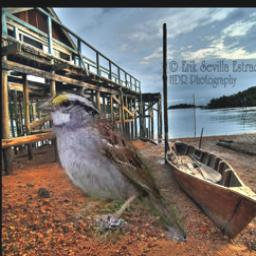Sparrow: (37, 91, 188, 243)
